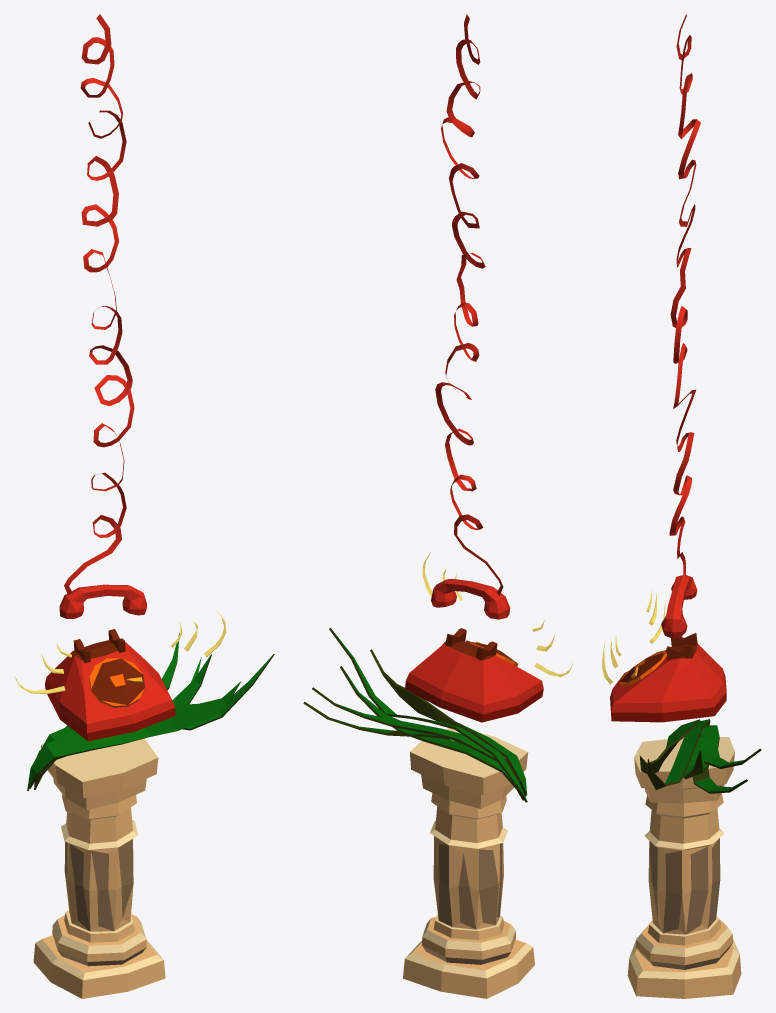
Rendered from telefono.gltf.
3 renders of one model, left to right at view 1: azimuth 30°, elevation 25°; view 2: azimuth 150°, elevation 25°; view 3: azimuth 270°, elevation 25°, orthographic.
Parts seen in each view (by area): view 1: Telefono_Columna, Telefono_Aparato, Telefono_Plantas; view 2: Telefono_Columna, Telefono_Aparato, Telefono_Plantas; view 3: Telefono_Columna, Telefono_Aparato, Telefono_Plantas.
Boxes of the visible parts, box(x1,y1,x2,y2) form: Telefono_Columna: box(33, 738, 165, 998); Telefono_Aparato: box(14, 14, 226, 741); Telefono_Plantas: box(27, 632, 274, 791); Telefono_Columna: box(403, 728, 534, 998); Telefono_Aparato: box(405, 14, 572, 722); Telefono_Plantas: box(303, 628, 527, 802); Telefono_Columna: box(627, 737, 741, 998); Telefono_Aparato: box(602, 14, 726, 722); Telefono_Plantas: box(639, 719, 761, 793).
Size of what is drawn, in the model's own units: 0.7657 by 2.77 by 0.4165.
Materials: 2 (2 with a texture image).
